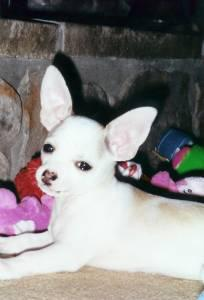dog-chihuahua: (34, 63, 156, 196)
